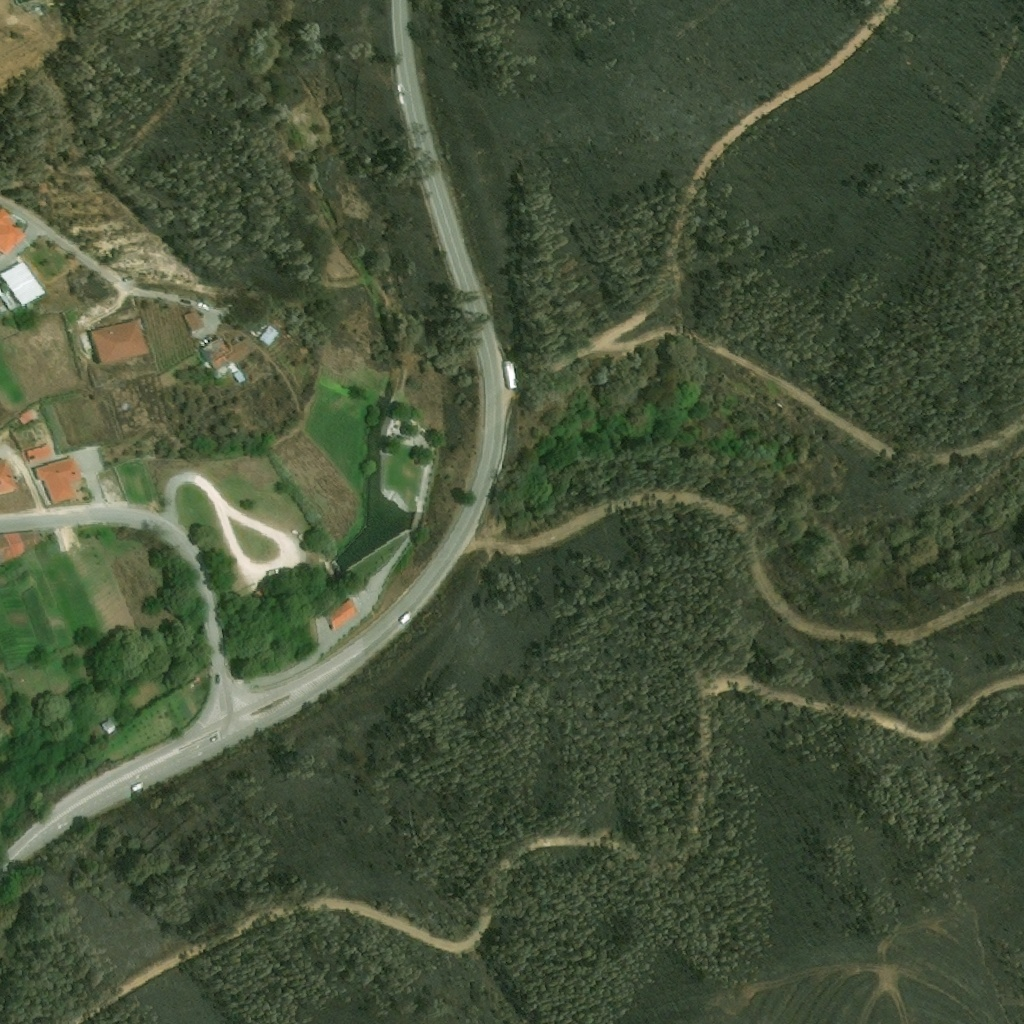0 no-damage: (91, 319, 148, 364), (0, 260, 46, 311), (34, 457, 83, 502), (202, 335, 255, 369), (0, 530, 42, 565), (0, 208, 26, 253), (324, 600, 355, 633), (249, 316, 280, 345), (0, 458, 18, 493), (184, 309, 205, 331), (27, 443, 50, 460), (98, 719, 114, 737), (19, 410, 34, 425)
